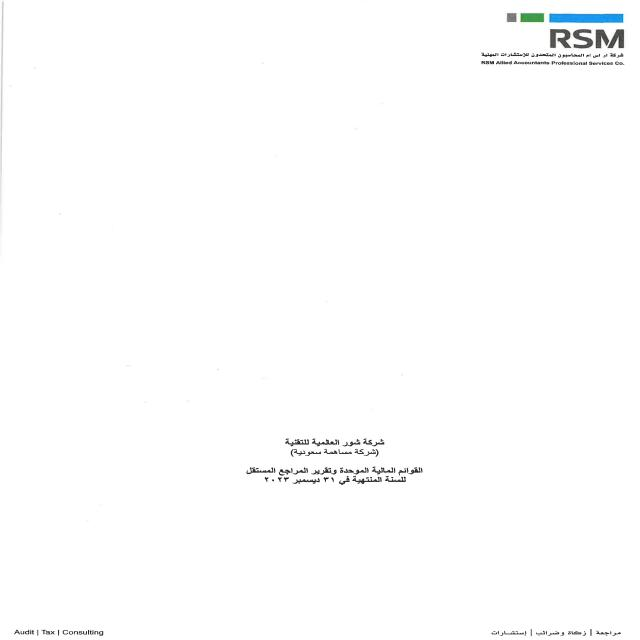other: (217, 386, 470, 518)
